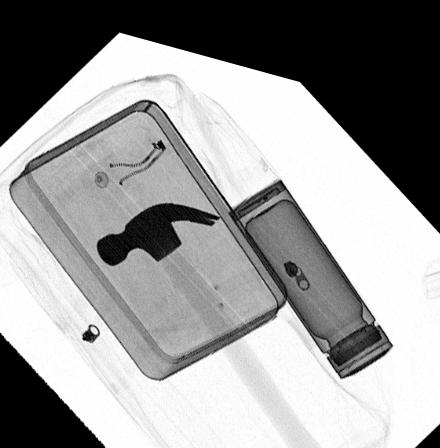Hammer: (95, 193, 334, 448)
